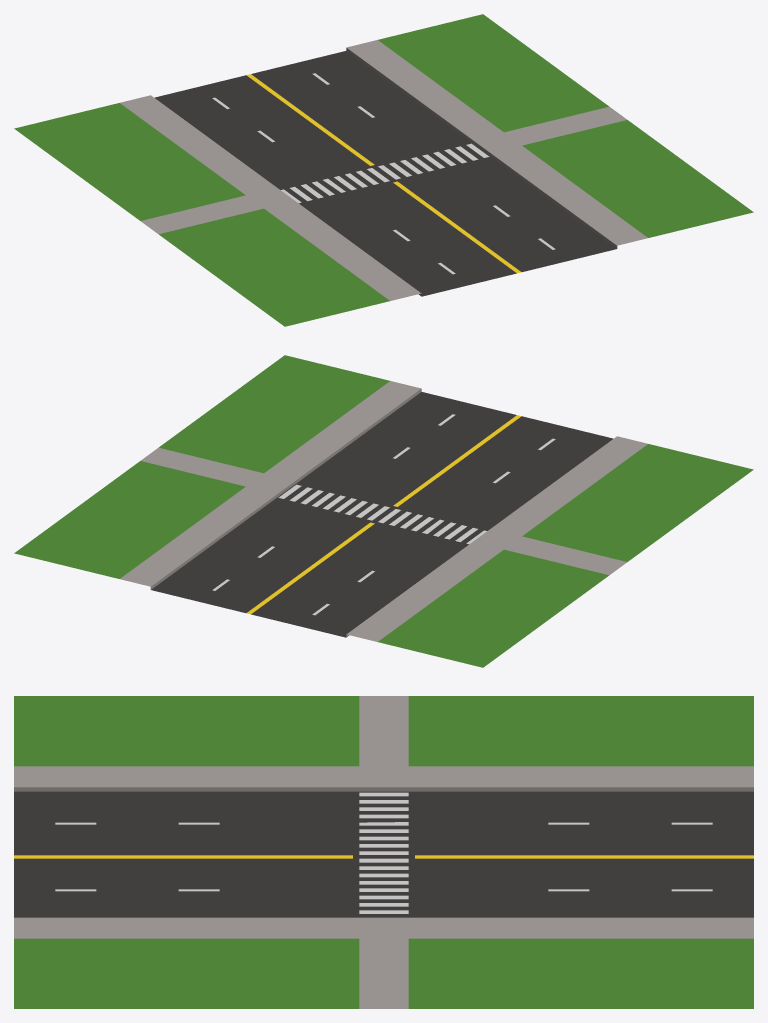
File: tiles-nb_tile-mainroad-straight-crosswalk-nb.fbx
3 renders of one model, top to bottom at view 1: azimuth 30°, elevation 25°; view 2: azimuth 150°, elevation 25°; view 3: azimuth 270°, elevation 25°, orthographic. The views are drawn at different scales.
Visible parts, largest first — view 1: tiles_nb_tile_mainroad_straight_crosswalk_nb; view 2: tiles_nb_tile_mainroad_straight_crosswalk_nb; view 3: tiles_nb_tile_mainroad_straight_crosswalk_nb.
Boxes of the visible parts, x1,y1,x2,y2 form: tiles_nb_tile_mainroad_straight_crosswalk_nb: (14,14,753,326); tiles_nb_tile_mainroad_straight_crosswalk_nb: (14,355,753,667); tiles_nb_tile_mainroad_straight_crosswalk_nb: (14,696,753,1008).
Size of the model in its own units: 200 by 1.33 by 200.
